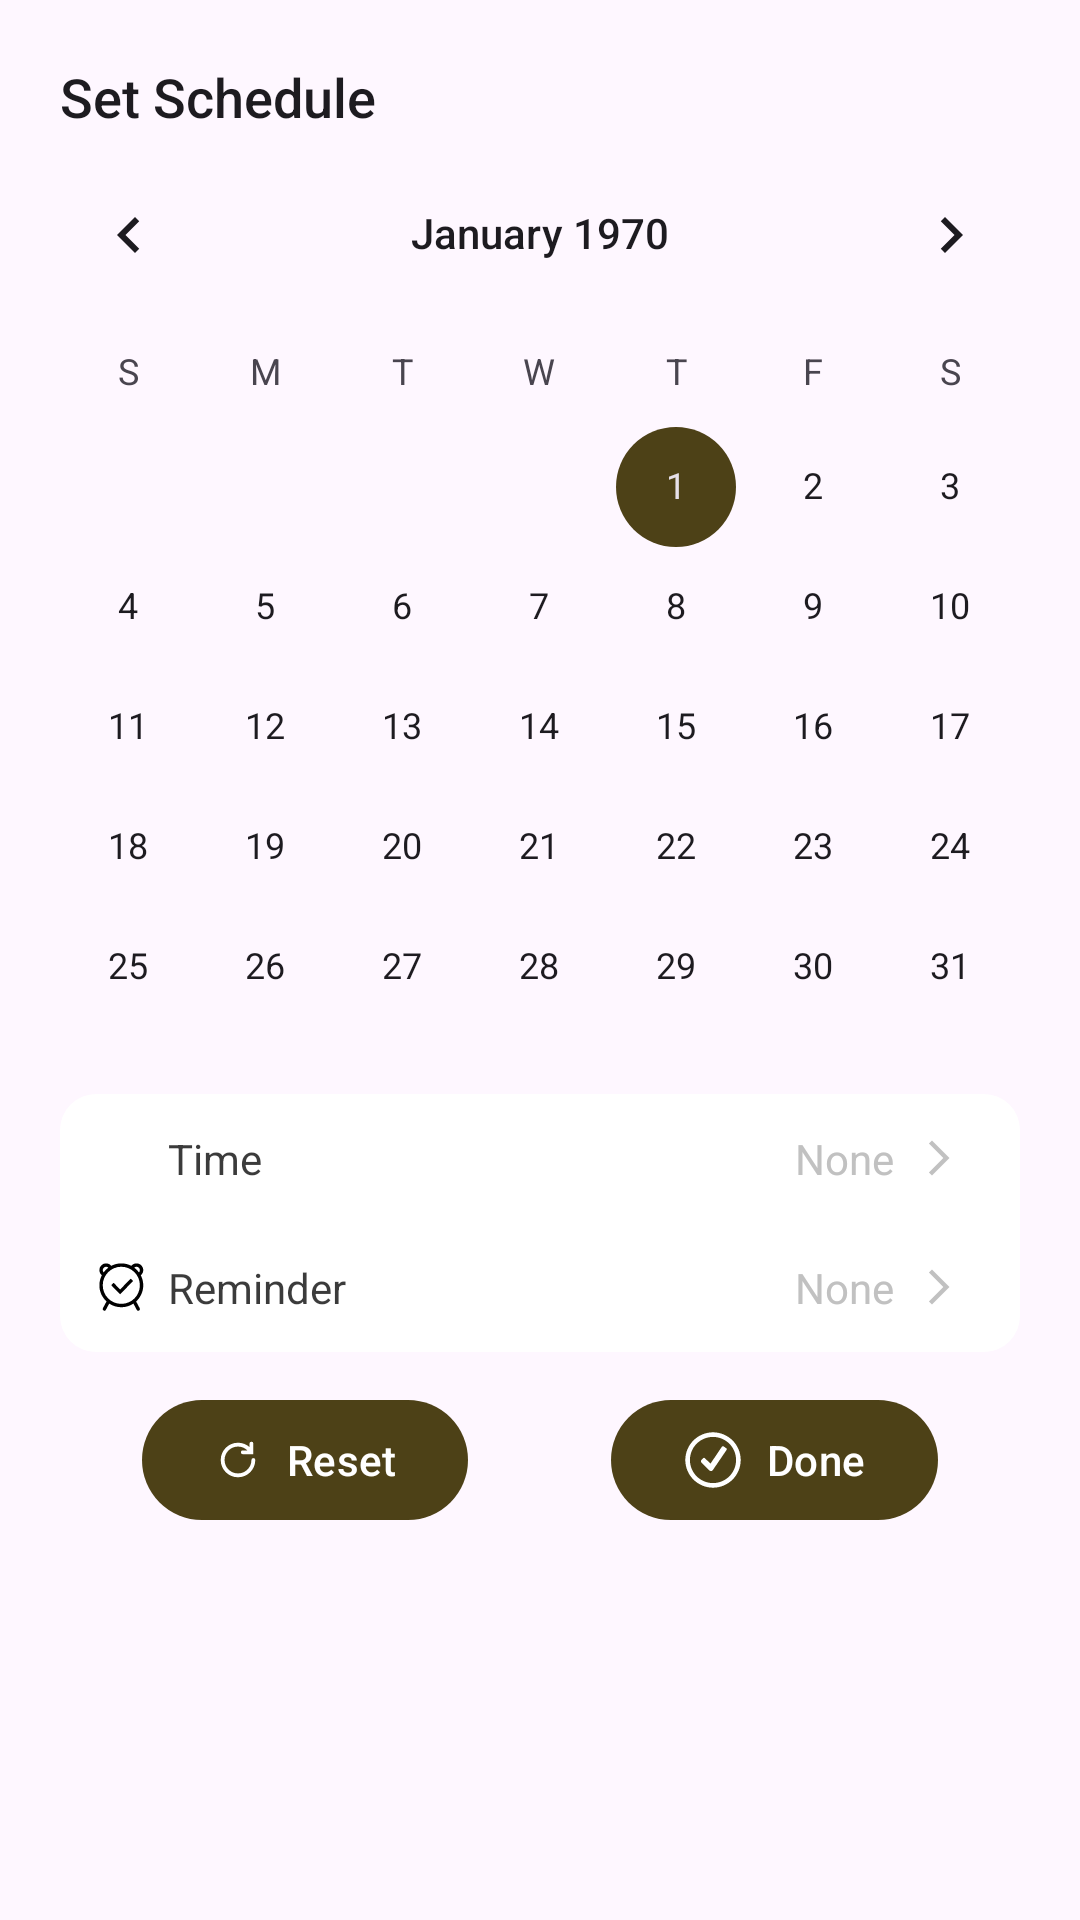

Where icons sit on this 1080*1920 app screen, as (x1, y1, x2, y2):
alarm: (99, 1263, 144, 1311)
